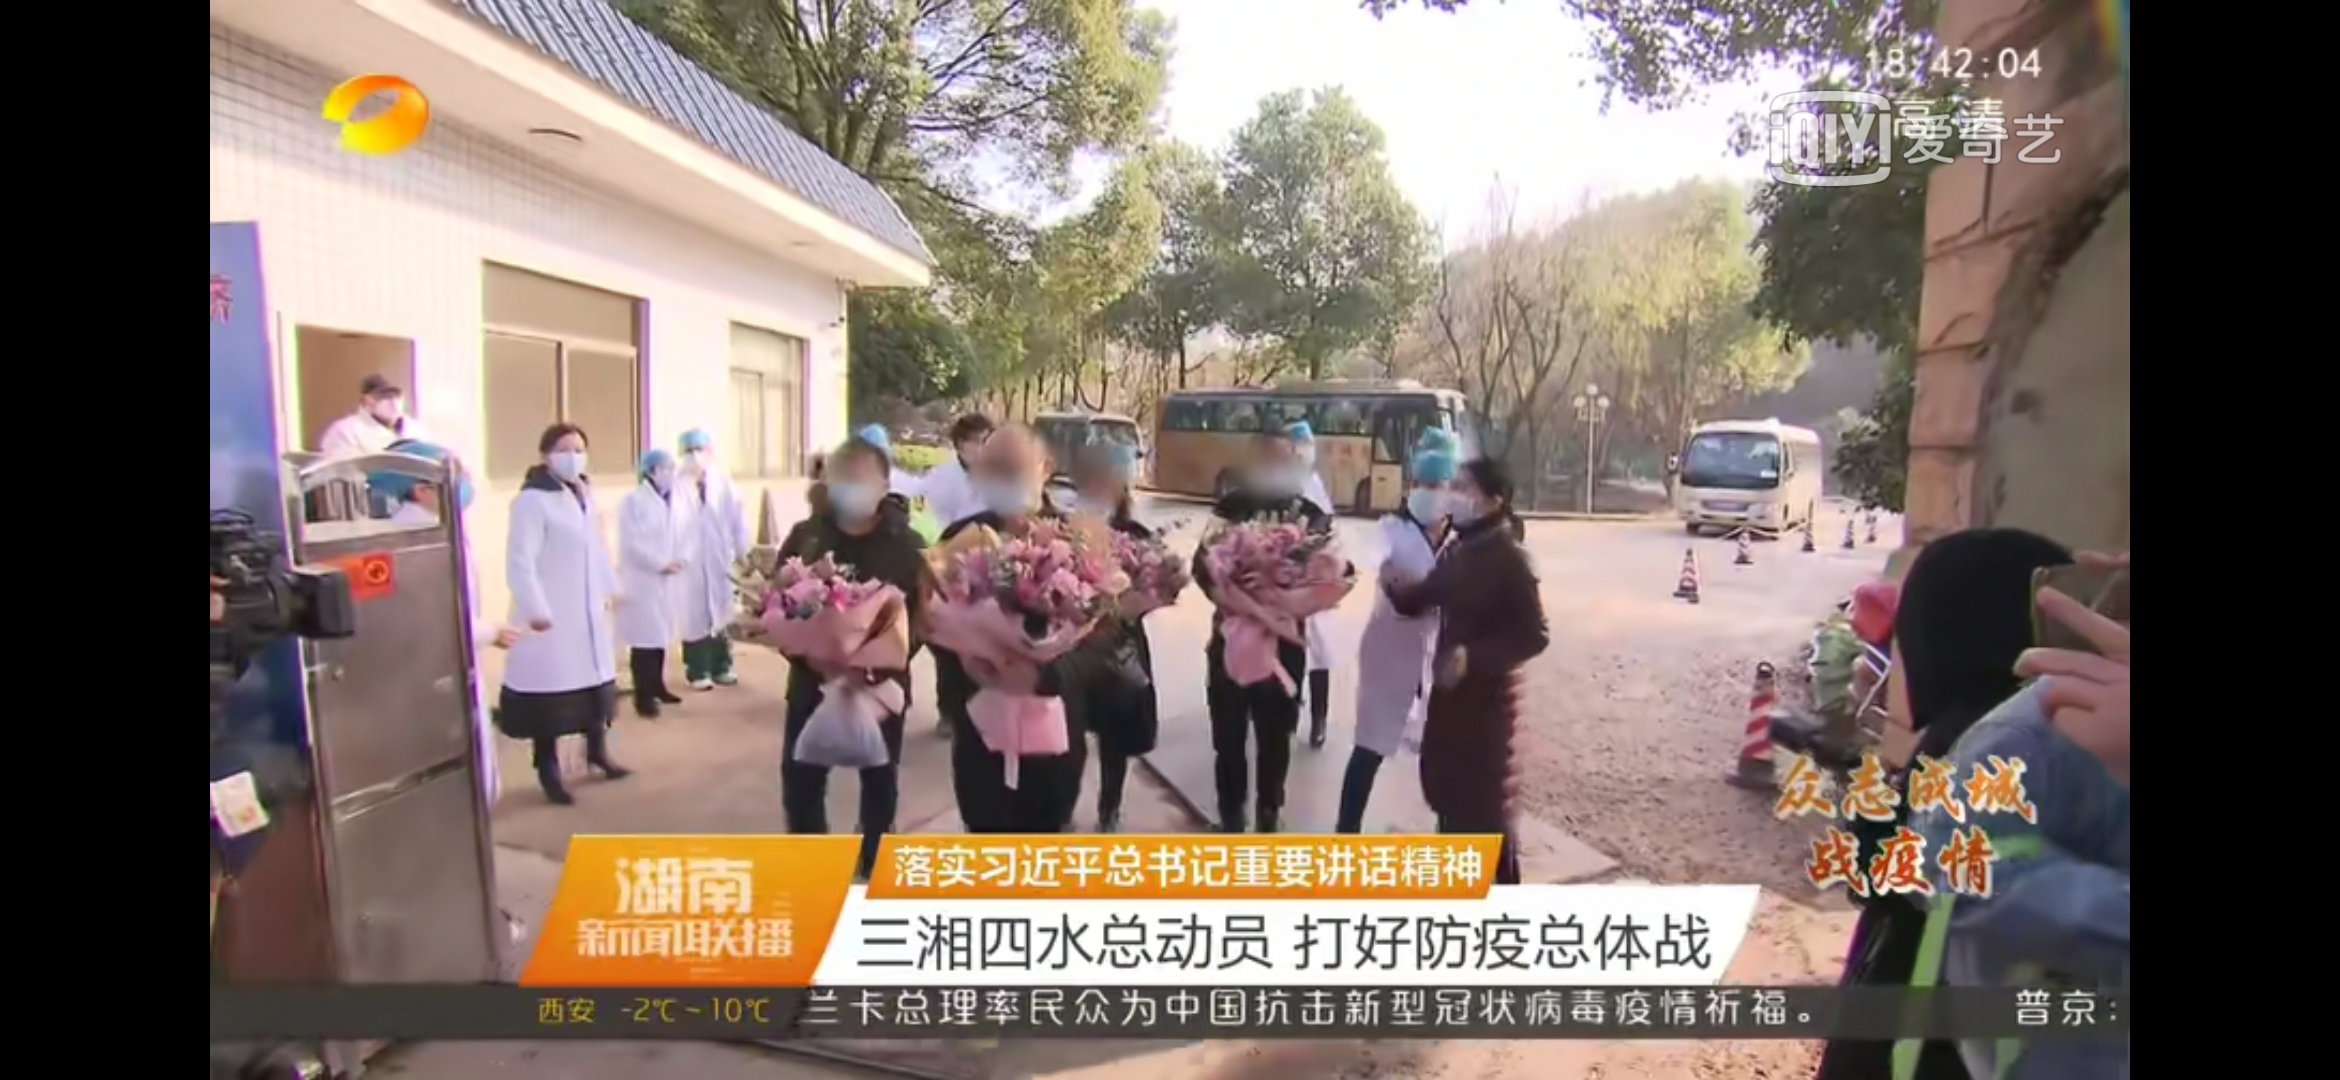correctlyWear: (1406, 464, 1462, 530), (1445, 471, 1506, 531), (539, 437, 589, 482), (366, 385, 403, 427), (676, 436, 713, 476), (643, 459, 678, 492)
